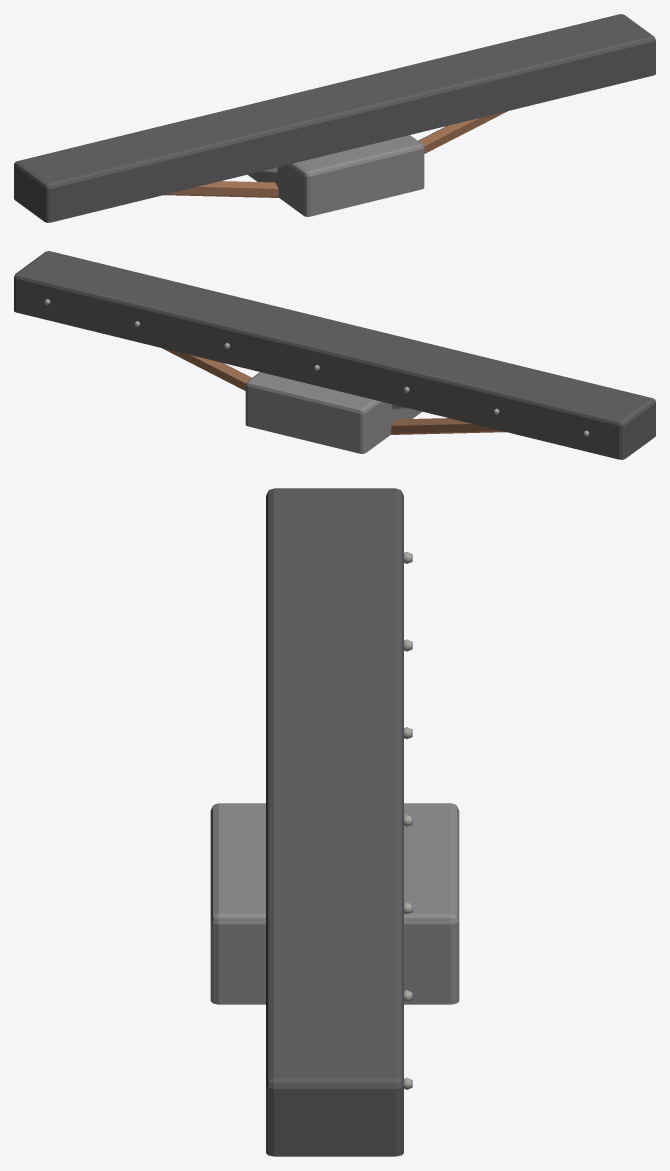
Rendered from rn2-canion-bracket.glb.
3 renders of one model, top to bottom at view 1: azimuth 30°, elevation 25°; view 2: azimuth 150°, elevation 25°; view 3: azimuth 270°, elevation 25°, orthographic. The views are drawn at different scales.
Parts seen in each view (by area): view 1: rn2_canion_bracket_body; view 2: rn2_canion_bracket_body; view 3: rn2_canion_bracket_body.
Part boxes in pixels (bbox=[...]): rn2_canion_bracket_body: bbox=[14, 14, 655, 222]; rn2_canion_bracket_body: bbox=[14, 251, 655, 459]; rn2_canion_bracket_body: bbox=[210, 488, 459, 1156].
Size of the model in its own units: 10.2 by 1.37 by 1.8.
